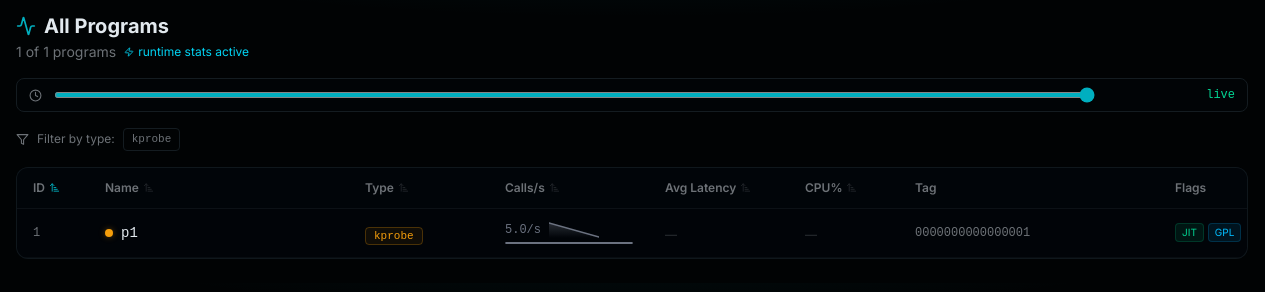
ProgramsView time scrubber › the Live button resets to the latest interval
The image size is (1265, 292).
Set the slider named "Scrub through recent history" to "0" at (62, 95), box [54, 92, 1095, 98]
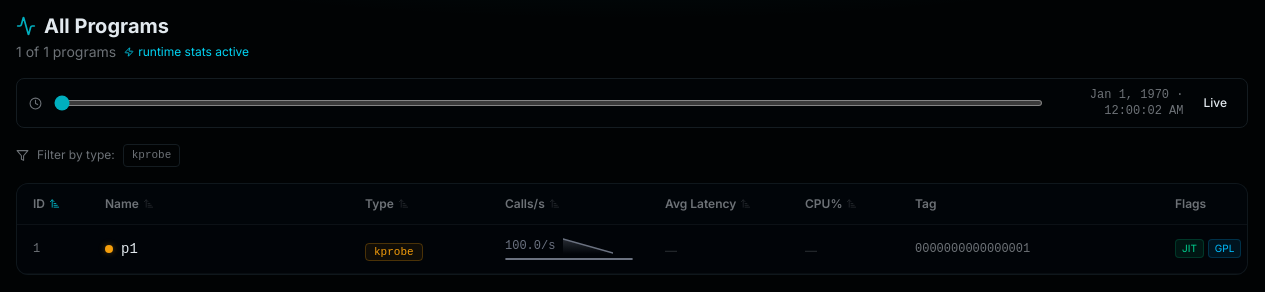
Expected: the text "100.0/s" is shown, [505, 238, 555, 254]
Click the button "Live".
click(1215, 103)  # box [1196, 91, 1235, 115]
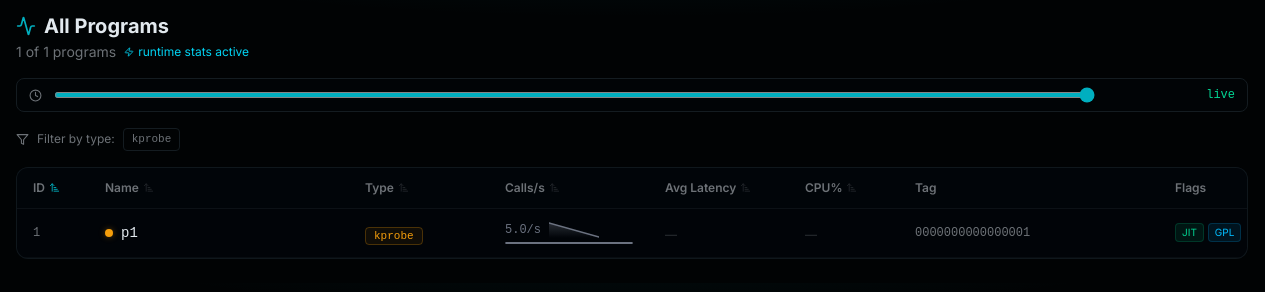
Expected: the text "5.0/s" is shown, [505, 222, 541, 238]
